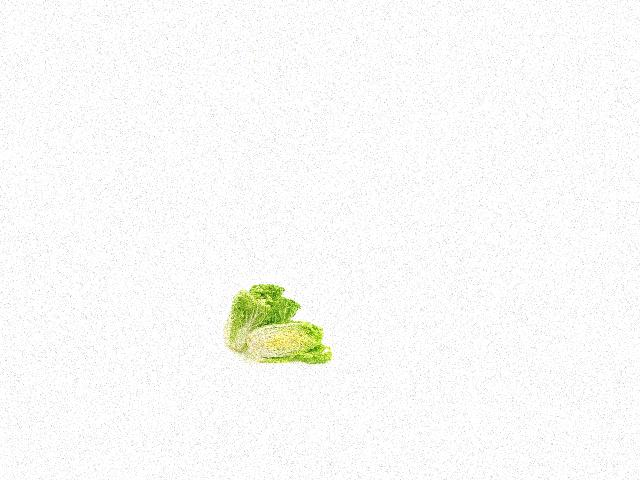lettuce: (221, 280, 305, 356)
